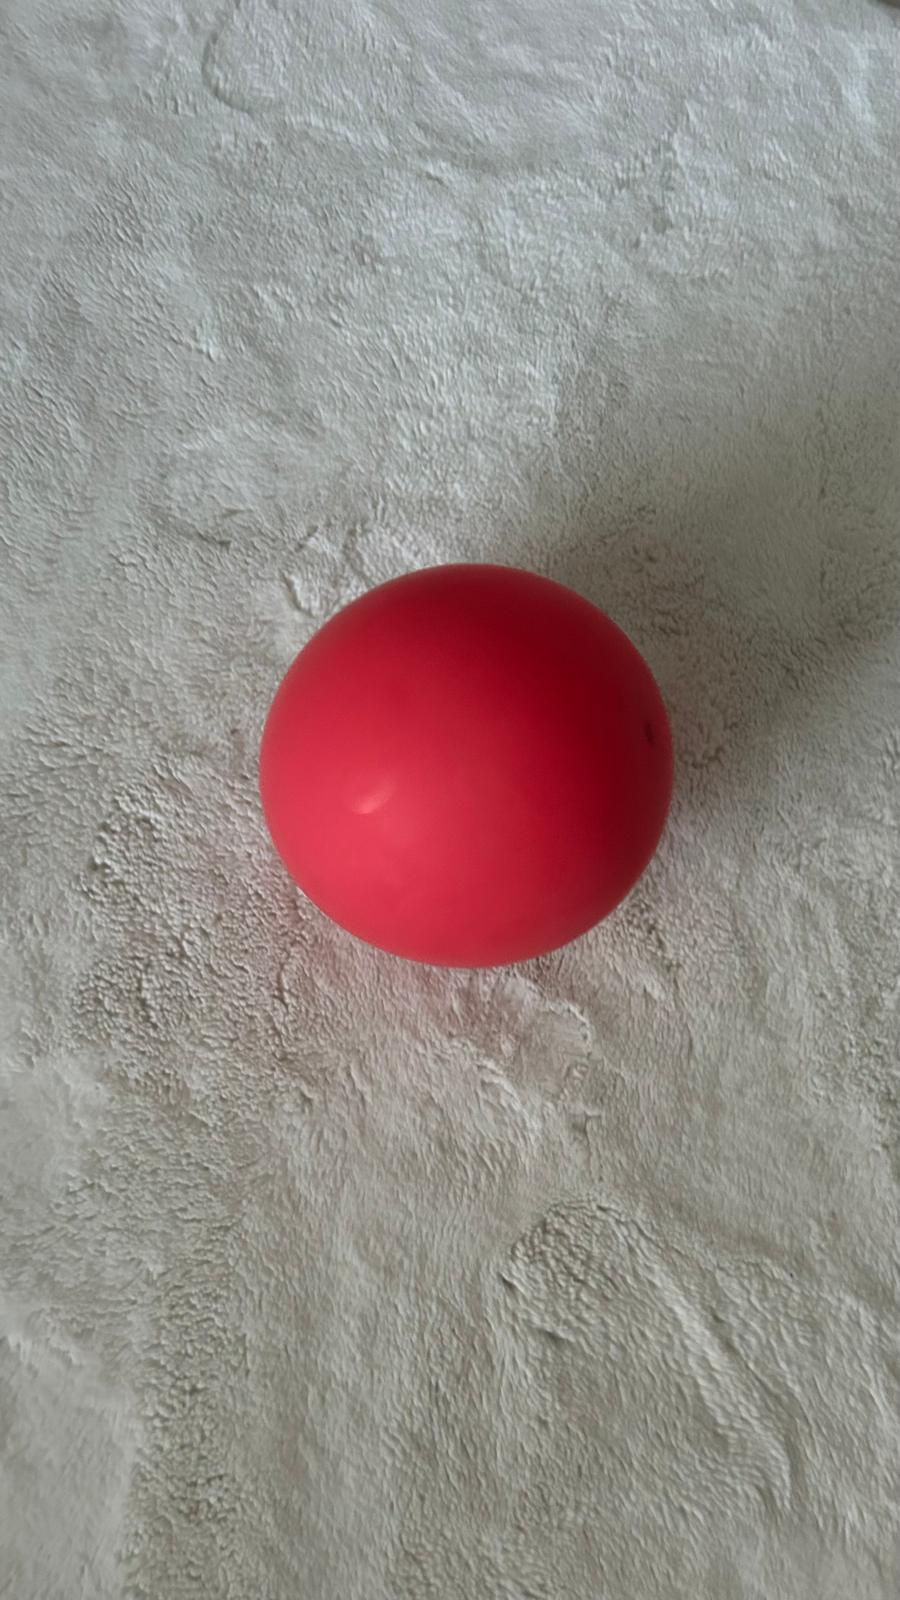red: (255, 556, 684, 975)
